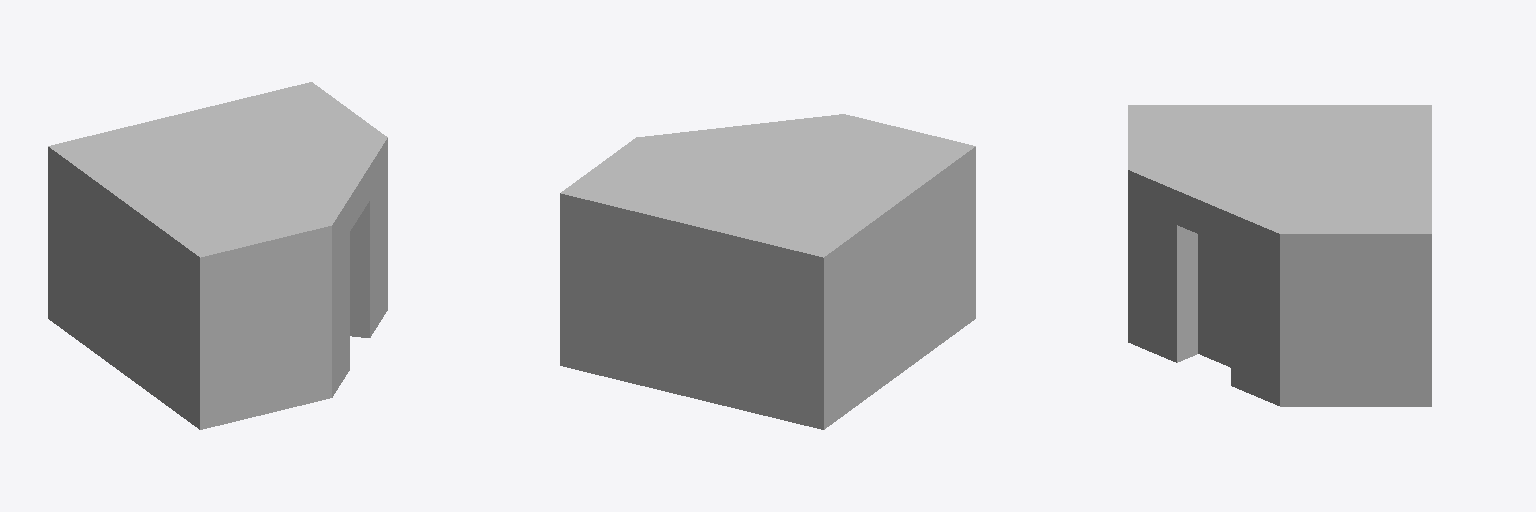
File: building-corner-window-narrow.obj
3 views of the same model, side by side, from view 1: azimuth 30°, elevation 25°; view 2: azimuth 150°, elevation 25°; view 3: azimuth 270°, elevation 25° (orthographic).
Visible parts, largest first — view 1: building-corner-window-narrow; view 2: building-corner-window-narrow; view 3: building-corner-window-narrow.
Boxes of the visible parts, x1,y1,x2,y2 form: building-corner-window-narrow: [48, 82, 387, 429]; building-corner-window-narrow: [560, 114, 975, 429]; building-corner-window-narrow: [1128, 105, 1431, 406].
Bounding box in the file's own units: 1 × 0.625 × 1.